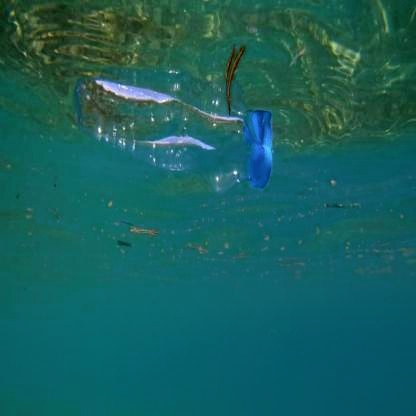pbottle: (69, 58, 274, 203)
